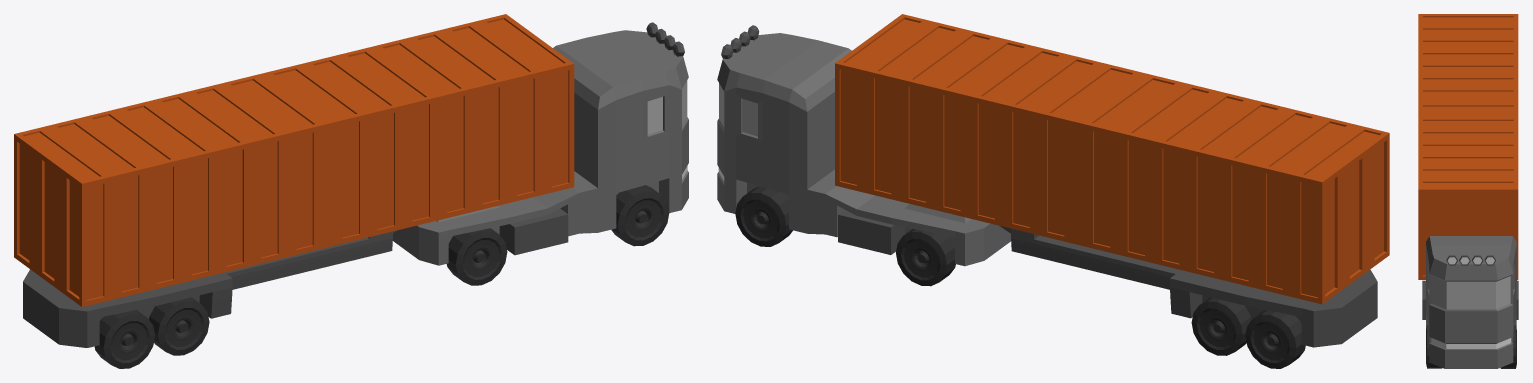
3 views of the same model, side by side, from view 1: azimuth 30°, elevation 25°; view 2: azimuth 150°, elevation 25°; view 3: azimuth 270°, elevation 25° (orthographic). The views are drawn at different scales.
Parts seen in each view (by area): view 1: Cube.009, B-2, Cube.014, Cylinder.012, Cylinder.048, Cylinder.028, Cylinder.050; view 2: Cube.009, B-2, Cube.014, Cylinder.021, Cylinder.010, Cylinder.029, Cylinder.014; view 3: Cube.009, B-2, Cylinder.014, Cylinder.050.
Part boxes in pixels (x1,y1,x2,y2): Cube.009: (14, 14, 574, 307); B-2: (393, 22, 688, 265); Cube.014: (23, 230, 396, 347); Cylinder.012: (94, 310, 155, 368); Cylinder.048: (446, 228, 507, 285); Cylinder.028: (149, 297, 209, 355); Cylinder.050: (611, 185, 669, 246); Cube.009: (835, 14, 1389, 304); B-2: (717, 25, 1010, 266); Cube.014: (1000, 226, 1377, 347); Cylinder.021: (1245, 310, 1305, 368); Cylinder.010: (896, 229, 955, 286); Cylinder.029: (1191, 297, 1251, 355); Cylinder.014: (735, 186, 792, 246); Cube.009: (1418, 14, 1518, 279); B-2: (1422, 236, 1518, 368); Cylinder.014: (1500, 325, 1516, 368); Cylinder.050: (1426, 325, 1442, 368).
Size of the model in its own units: 4842 by 1503 by 909.
